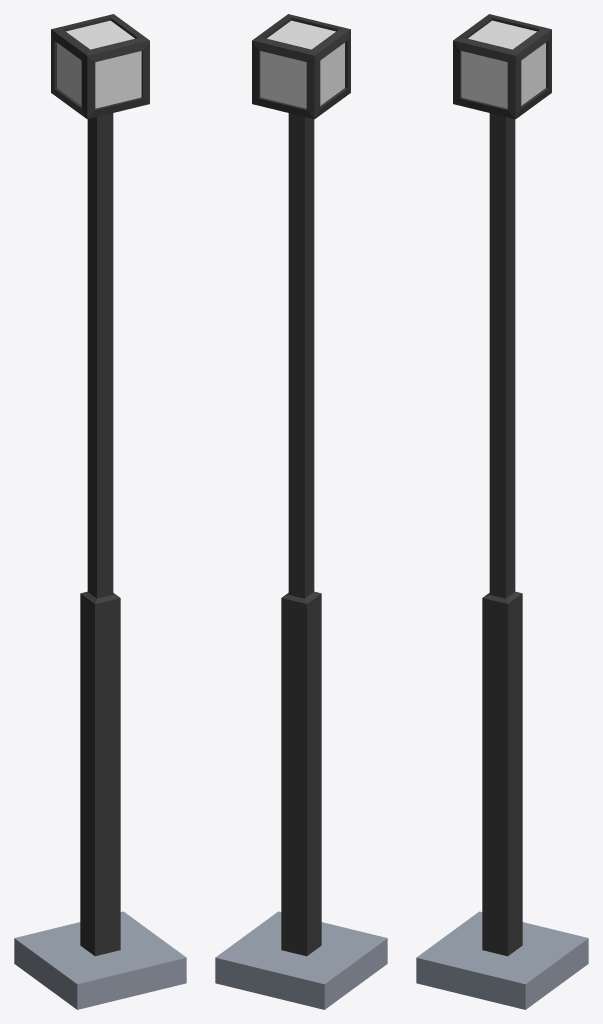
The model's file is StreetLightB.fbx.
The picture shows the model from 3 angles, left to right: view 1: azimuth 30°, elevation 25°; view 2: azimuth 150°, elevation 25°; view 3: azimuth 330°, elevation 25°; orthographic projection.
Parts seen in each view (by area): view 1: StreetLightB; view 2: StreetLightB; view 3: StreetLightB.
Boxes of the visible parts, <box> form: StreetLightB: <box>14,14,186,1009</box>; StreetLightB: <box>215,14,387,1009</box>; StreetLightB: <box>416,14,588,1009</box>.
Bounding box in the file's own units: 0.9211 × 7.56 × 0.9211.
